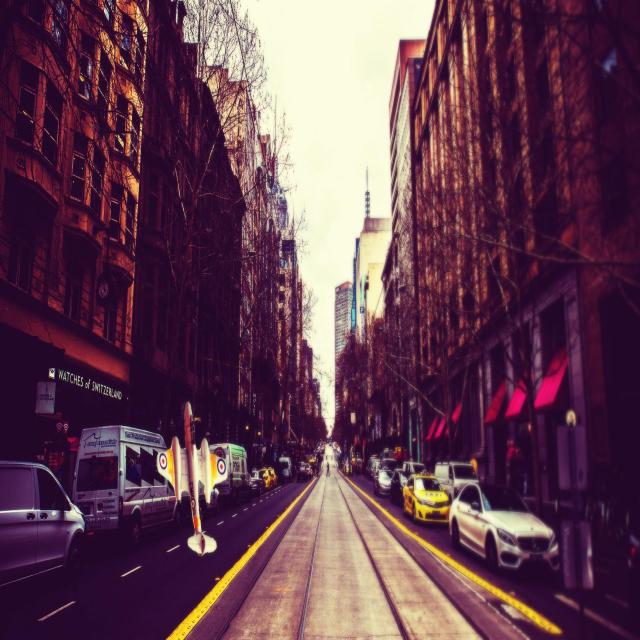airplane: (156, 400, 228, 555)
